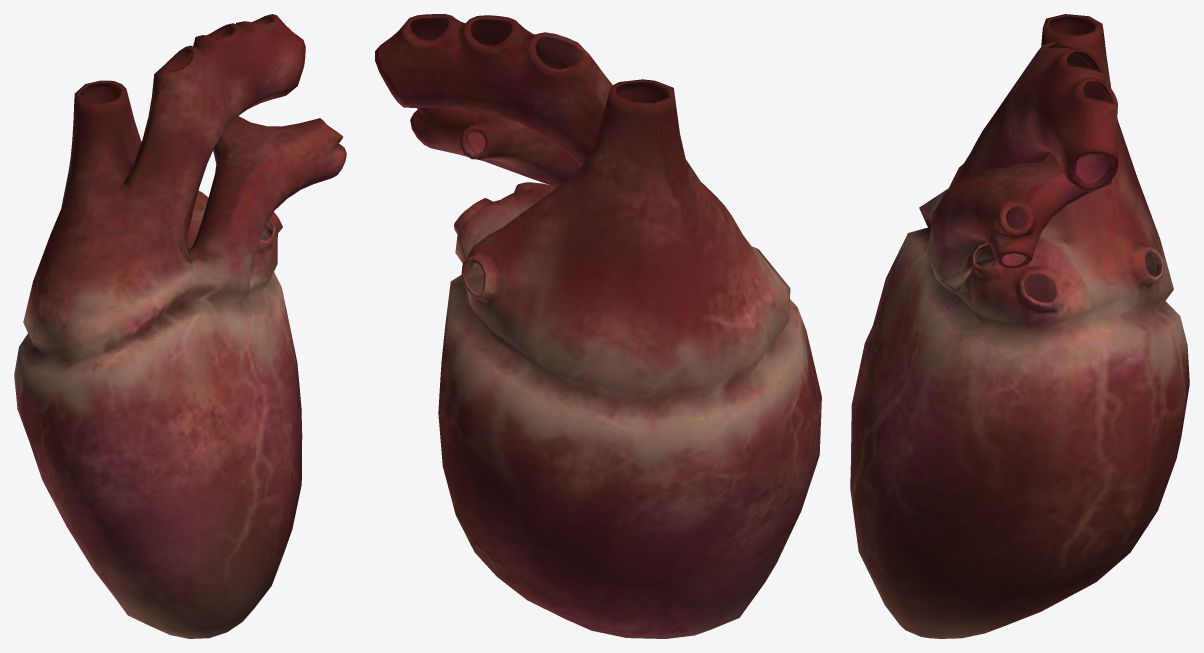
File: beating-heart.glb
3 renders of one model, left to right at view 1: azimuth 30°, elevation 25°; view 2: azimuth 150°, elevation 25°; view 3: azimuth 270°, elevation 25°, orthographic. The views are drawn at different scales.
Parts seen in each view (by area): view 1: Heart; view 2: Heart; view 3: Heart.
Part boxes in pixels (bbox=[...]): Heart: bbox=[14, 14, 346, 638]; Heart: bbox=[375, 14, 821, 638]; Heart: bbox=[850, 14, 1189, 638].
Size of the model in its own units: 0.1681 by 0.2747 by 0.1374.
Materials: 1 (1 with a texture image).
